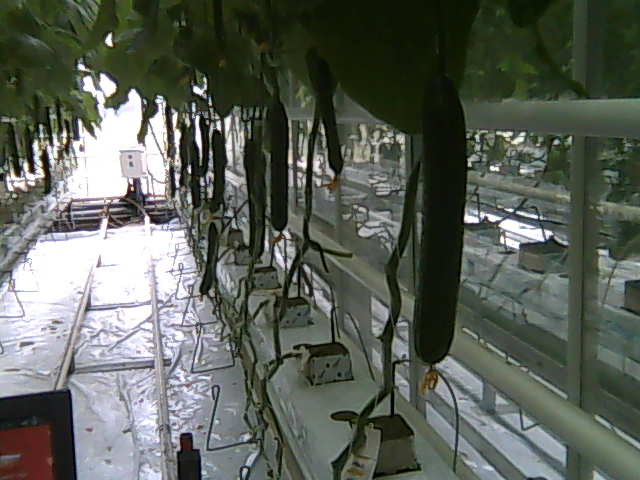concombre: (408, 65, 469, 395)
